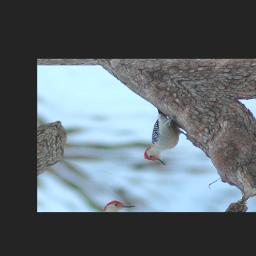Woodpecker: (124, 108, 200, 167)
